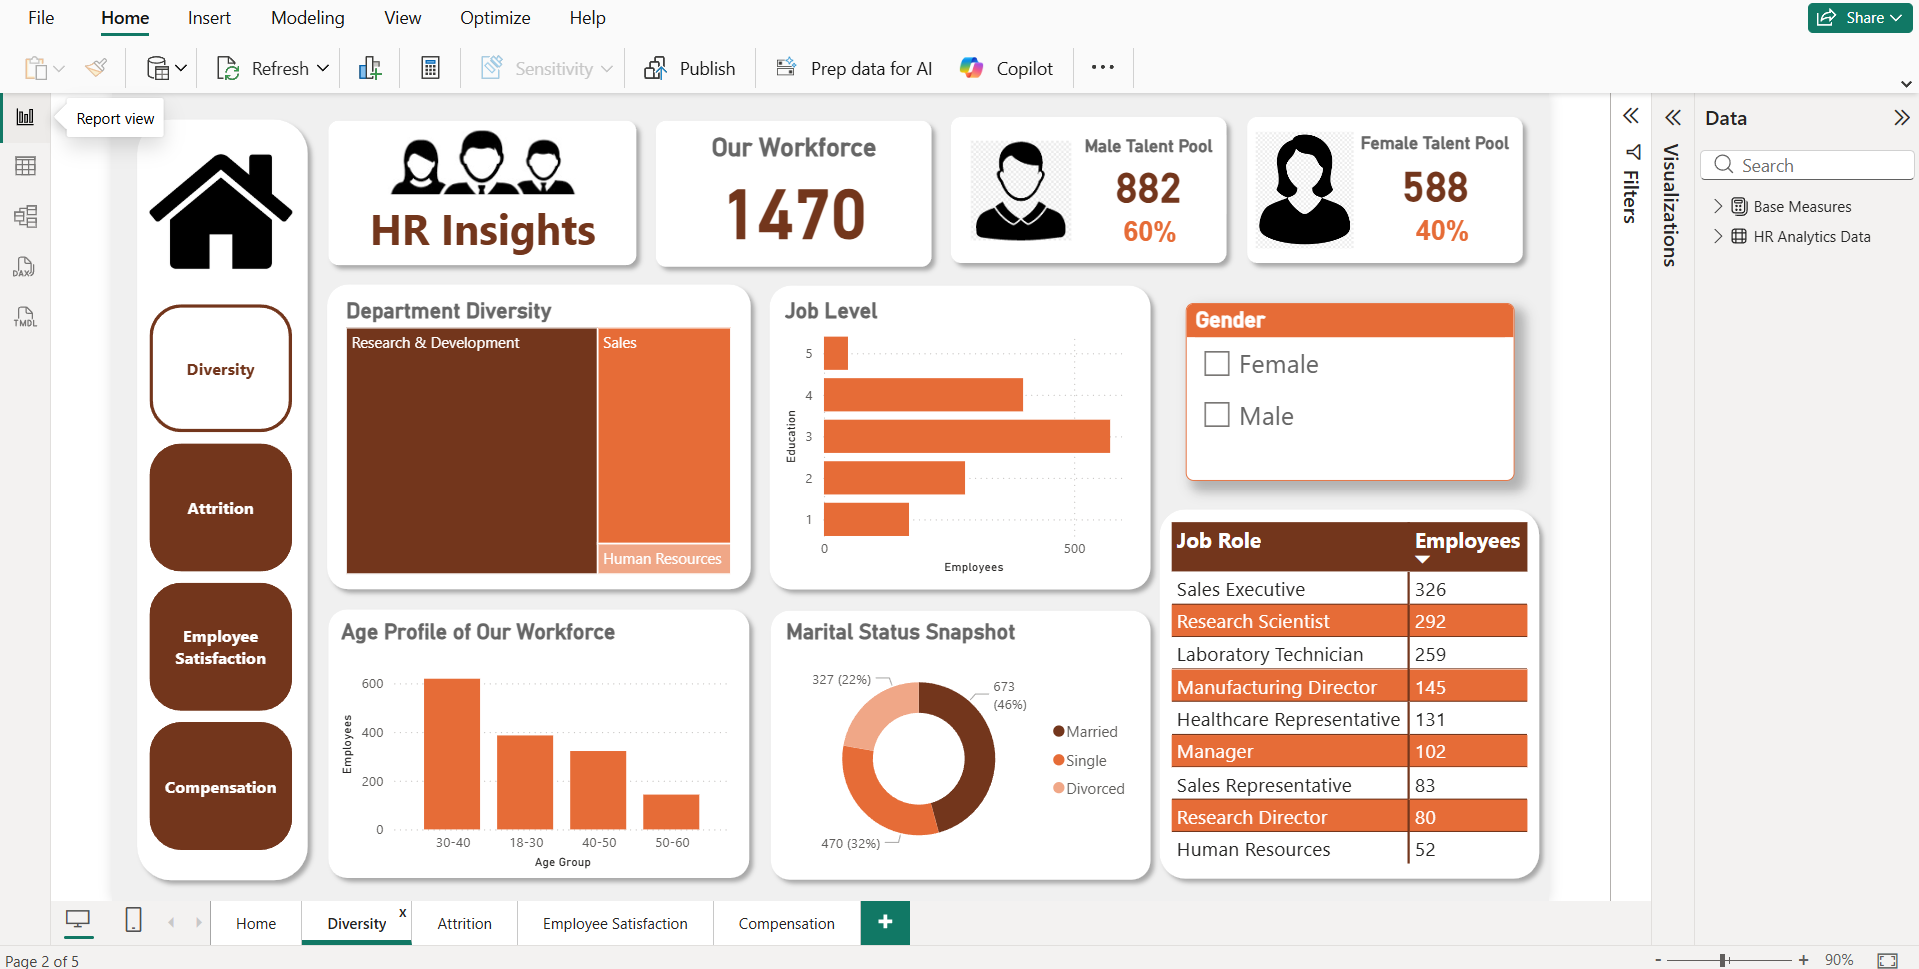

What the dashboard file says about the page in this screenshot:
{"tool":"powerbi","page":{"name":"Diversity","canvas":[1280,720],"ordinal":1},"visuals":[{"type":"shape","box":[924.2,362.1,356.1,347],"z":0},{"type":"shape","box":[577.3,451.5,356.1,257.6],"z":1000},{"type":"shape","box":[576.7,162.8,357.1,288.6],"z":2000},{"type":"shape","box":[183.8,451.3,392.9,257.1],"z":3000},{"type":"shape","box":[12.9,14.3,170,695.7],"z":4000},{"type":"shape","box":[183.3,15.2,292.2,146.7],"z":4000,"group":"g1"},{"type":"shape","box":[475.8,15.2,263.5,148.2],"z":5000,"group":"g2"},{"type":"shape","box":[182.8,161.8,395.2,289.5],"z":5000},{"type":"shape","box":[737.9,12.1,263.5,148.2],"z":6000,"group":"g3"},{"type":"treemap","title":"Department Diversity","fields":{"Group":["HR Analytics Data.Department"],"Values":["CountNonNull(HR Analytics Data.EmployeeNumber)"]},"box":[203.4,182.4,352.7,251.1],"z":6000},{"type":"shape","box":[1001.5,12.1,263.5,148.2],"z":7000,"group":"g4"},{"type":"donutChart","title":"Marital Status Snapshot","fields":{"Y":["CountNonNull(HR Analytics Data.EmployeeNumber)"],"Category":["HR Analytics Data.MaritalStatus"]},"box":[595.5,468.2,321.2,227.3],"z":7000},{"type":"image","box":[232.5,32.6,195.3,91.1],"z":8000,"group":"g1"},{"type":"columnChart","title":"Age Profile of Our Workforce","fields":{"Category":["HR Analytics Data.Age Group"],"Y":["CountNonNull(HR Analytics Data.EmployeeNumber)"]},"box":[199.5,468.5,357.1,227.1],"z":8000},{"type":"textbox","box":[201.6,89.9,257.2,59.8],"z":9000,"group":"g1"},{"type":"barChart","title":"Job Level","fields":{"Category":["HR Analytics Data.Education"],"Y":["CountNonNull(HR Analytics Data.EmployeeNumber)"]},"box":[594.8,182.2,322.1,250.9],"z":9000},{"type":"card","title":"Our Workforce","fields":{"Values":["Base Measures.Total Employees"]},"box":[490.3,34.5,235.3,103.8],"z":10000,"group":"g2"},{"type":"tableEx","fields":{"Values":["HR Analytics Data.JobRole","CountNonNull(HR Analytics Data.EmployeeNumber)"]},"box":[937.4,377.6,333,319.7],"z":10000},{"type":"group","id":"g1","title":"Group 1","box":[183.3,15.2,292.2,146.7],"z":11000},{"type":"card","title":"Male Talent Pool","fields":{"Values":["Base Measures.Male"]},"box":[853.7,37.4,138.7,70],"z":11000,"group":"g3"},{"type":"group","id":"g2","title":"Group 2","box":[475.8,15.2,263.5,148.2],"z":12000},{"type":"card","title":"Female Talent Pool ","fields":{"Values":["Base Measures.Female"]},"box":[1100.4,35,154.4,72.4],"z":12000,"group":"g4"},{"type":"group","id":"g3","title":"Group 3","box":[737.9,12.1,263.5,148.2],"z":13000},{"type":"card","title":"Female","fields":{"Values":["Base Measures.% Female"]},"box":[1145.1,99,79.6,48.3],"z":13000,"group":"g4"},{"type":"group","id":"g4","title":"Group 4","box":[1001.5,12.1,263.5,148.2],"z":14000},{"type":"card","title":"Female","fields":{"Values":["Base Measures.% Male"]},"box":[885.2,100,79.6,47.1],"z":14000,"group":"g3"},{"type":"image","box":[1017.8,34.9,86.9,103.8],"z":15000,"group":"g4"},{"type":"slicer","title":"Gender","fields":{"Values":["HR Analytics Data.Gender"]},"box":[956.7,187,293.2,158],"z":15000},{"type":"image","box":[764.6,34.9,89.3,105],"z":16000,"group":"g3"},{"type":"pageNavigator","box":[33.8,188.2,127.9,489.8],"z":16000},{"type":"image","box":[33.8,36.2,127.5,137.5],"z":17000}]}

Visuals, with their boxes on the page's 1280x720 design canvas (x1, y1, x2, y2). These are canvas units, not pixel positions in the 1919x969 screenshot, which may show the page scaled, cropped or inside an application window:
shape: region(924, 362, 1280, 709)
shape: region(577, 452, 933, 709)
shape: region(577, 163, 934, 451)
shape: region(184, 451, 577, 708)
shape: region(13, 14, 183, 710)
shape: region(183, 15, 476, 162)
shape: region(476, 15, 739, 163)
shape: region(183, 162, 578, 451)
shape: region(738, 12, 1001, 160)
"Department Diversity" treemap: region(203, 182, 556, 434)
shape: region(1002, 12, 1265, 160)
"Marital Status Snapshot" donutChart: region(596, 468, 917, 696)
image: region(232, 33, 428, 124)
"Age Profile of Our Workforce" columnChart: region(200, 468, 557, 696)
textbox: region(202, 90, 459, 150)
"Job Level" barChart: region(595, 182, 917, 433)
"Our Workforce" card: region(490, 34, 726, 138)
tableEx - HR Analytics Data.JobRole x CountNonNull(HR Analytics Data.EmployeeNumber): region(937, 378, 1270, 697)
"Group 1" group: region(183, 15, 476, 162)
"Male Talent Pool" card: region(854, 37, 992, 107)
"Group 2" group: region(476, 15, 739, 163)
"Female Talent Pool " card: region(1100, 35, 1255, 107)
"Group 3" group: region(738, 12, 1001, 160)
"Female" card: region(1145, 99, 1225, 147)
"Group 4" group: region(1002, 12, 1265, 160)
"Female" card: region(885, 100, 965, 147)
image: region(1018, 35, 1105, 139)
"Gender" slicer: region(957, 187, 1250, 345)
image: region(765, 35, 854, 140)
pageNavigator: region(34, 188, 162, 678)
image: region(34, 36, 161, 174)
